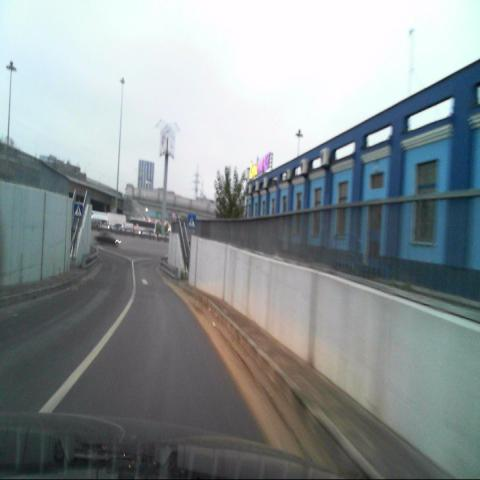5_19_1: (187, 214, 195, 229), (74, 203, 82, 217)
